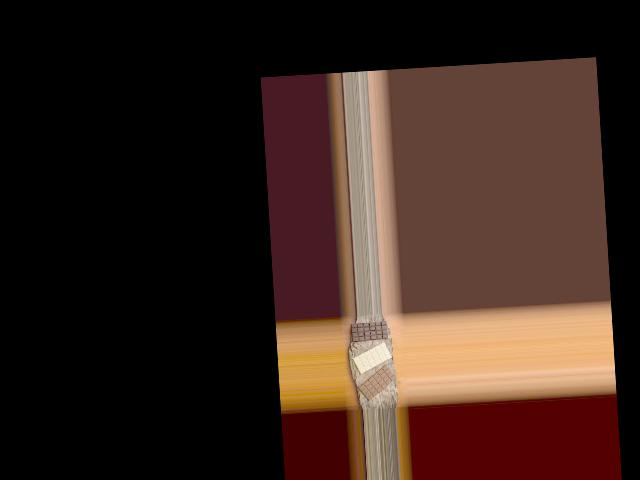chocolate: (350, 320, 388, 341)
